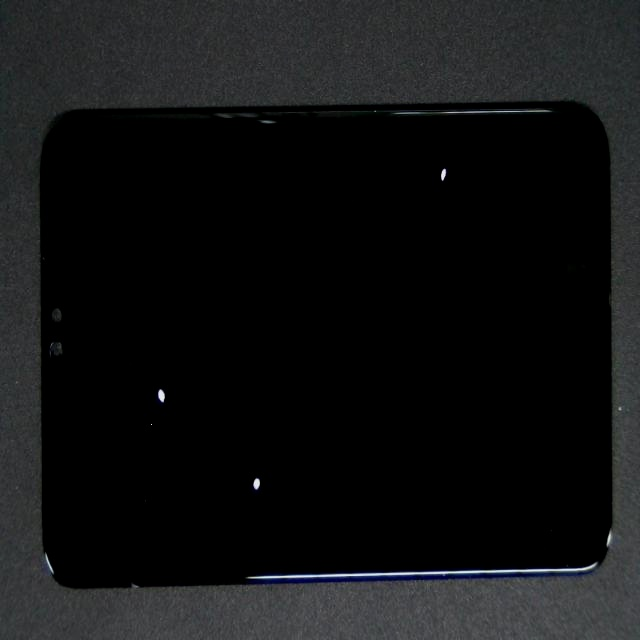stain: (108, 209, 370, 640), (214, 81, 640, 244), (72, 164, 223, 599)
